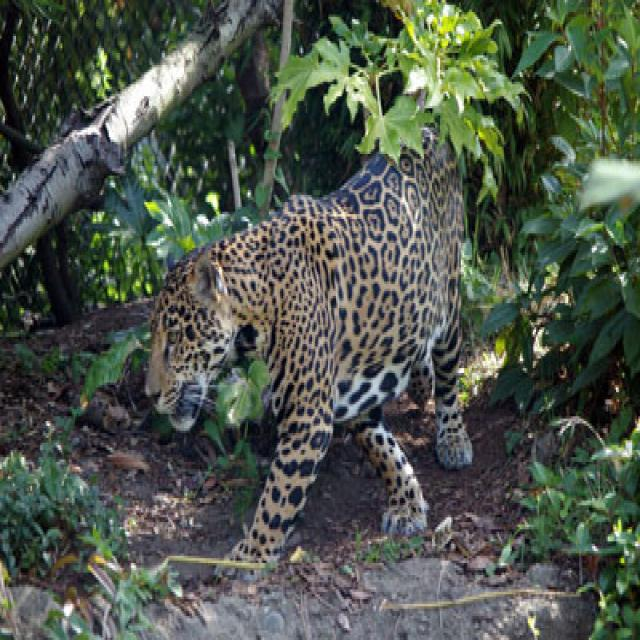Leopard: (134, 115, 470, 580)
